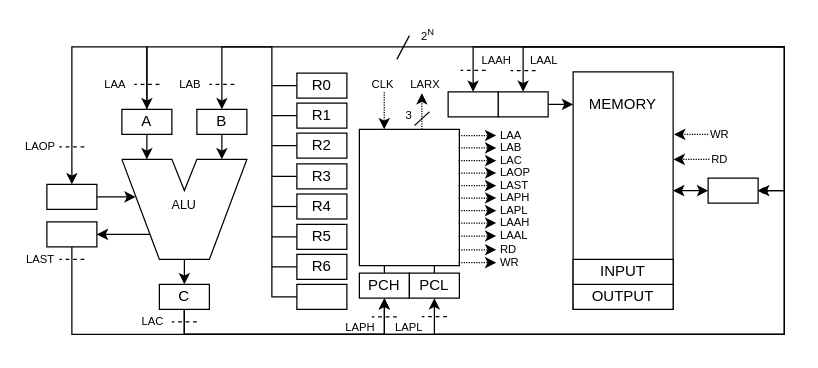
Some shapes in this 818 by 368 pixel diagram are drawn without their labels. The centre of each missing label's shape, as x and y in pixels:
"ADDH" belongs at (x=472, y=104).
"ADDL" belongs at (x=522, y=104).
"DATA" belongs at (x=732, y=190).
"LOGIC" belongs at (x=408, y=197).
"OP" belongs at (x=71, y=196).
"R7" belongs at (x=321, y=296).
"ST" belongs at (x=71, y=234).
